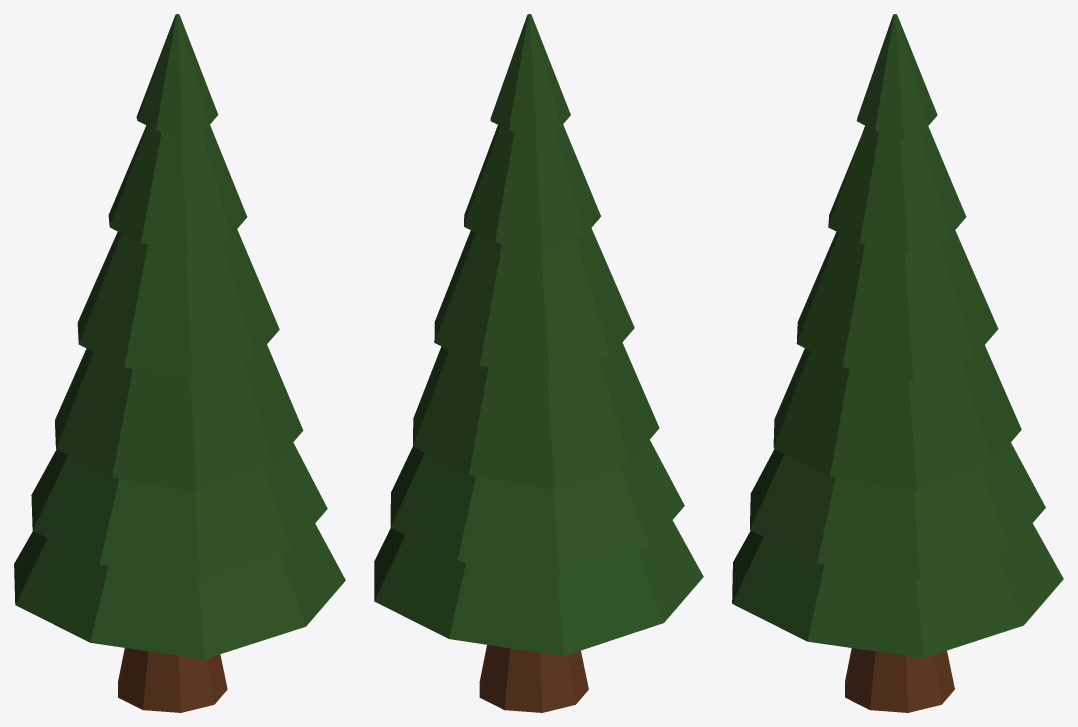
File: tree.fbx
The picture shows the model from 3 angles, left to right: view 1: azimuth 30°, elevation 25°; view 2: azimuth 150°, elevation 25°; view 3: azimuth 270°, elevation 25°; orthographic projection.
Visible parts, largest first — view 1: lowpolytree:Mesh; view 2: lowpolytree:Mesh; view 3: lowpolytree:Mesh.
Part boxes in pixels (<box>): lowpolytree:Mesh: <box>14,14,345,712</box>; lowpolytree:Mesh: <box>374,14,703,712</box>; lowpolytree:Mesh: <box>732,14,1063,712</box>.
Bounding box in the file's own units: 2.31 × 5.12 × 2.28.
